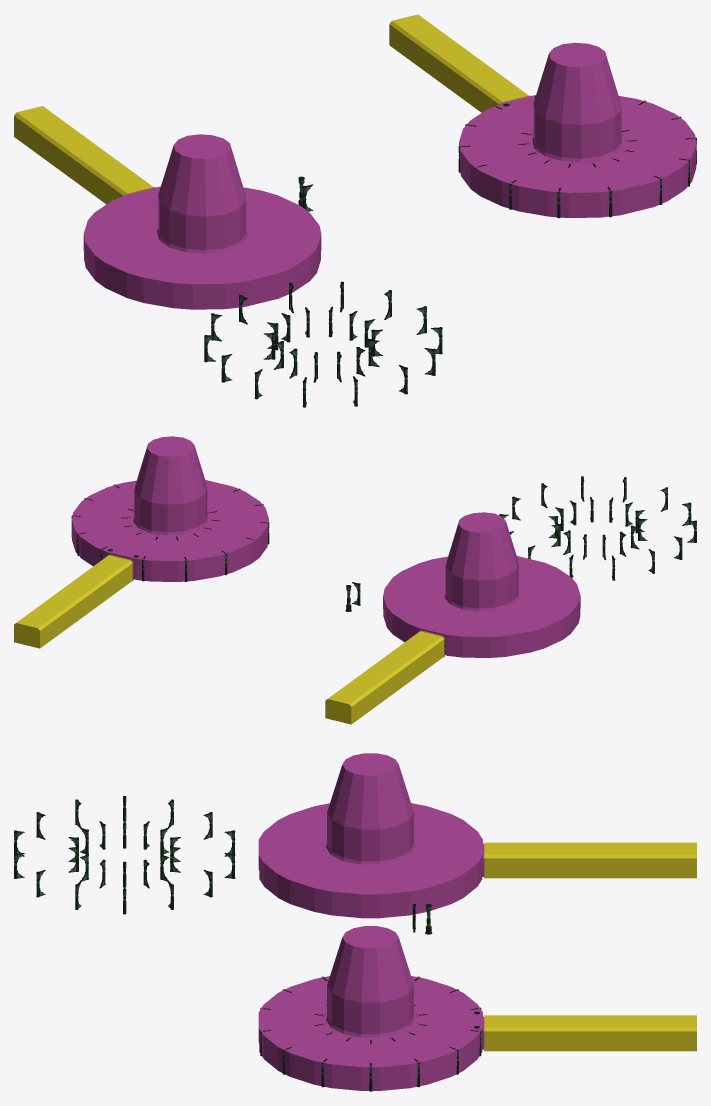
The model's file is scen_kristals.FBX.
The picture shows the model from 3 angles, top to bottom: view 1: azimuth 30°, elevation 25°; view 2: azimuth 150°, elevation 25°; view 3: azimuth 270°, elevation 25°; orthographic projection. The views are drawn at different scales.
Visible parts, largest first — view 1: sten_002, sten_1, koredor, koredor001, kol_rad, sten; view 2: sten_002, sten_1, koredor001, koredor, kol_rad, sten; view 3: sten_002, sten_1, koredor, koredor001, kol_rad, sten.
Part boxes in pixels (left/top/right/bottom): sten_002: left=83, top=134, right=321, bottom=309; sten_1: left=459, top=42, right=696, bottom=217; koredor: left=389, top=14, right=529, bottom=112; koredor001: left=14, top=106, right=154, bottom=204; kol_rad: left=204, top=281, right=442, bottom=407; sten: left=458, top=100, right=696, bottom=218; sten_002: left=383, top=512, right=580, bottom=657; sten_1: left=71, top=436, right=268, bottom=581; koredor001: left=325, top=630, right=444, bottom=724; koredor: left=14, top=554, right=133, bottom=648; kol_rad: left=499, top=476, right=696, bottom=580; sten: left=71, top=484, right=269, bottom=581; sten_002: left=258, top=753, right=486, bottom=918; sten_1: left=258, top=926, right=484, bottom=1090; koredor: left=484, top=1015, right=696, bottom=1051; koredor001: left=484, top=842, right=696, bottom=878; kol_rad: left=14, top=796, right=235, bottom=914; sten: left=260, top=976, right=481, bottom=1091.
Bounding box in the file's own units: 20359 × 4829 × 21641.
